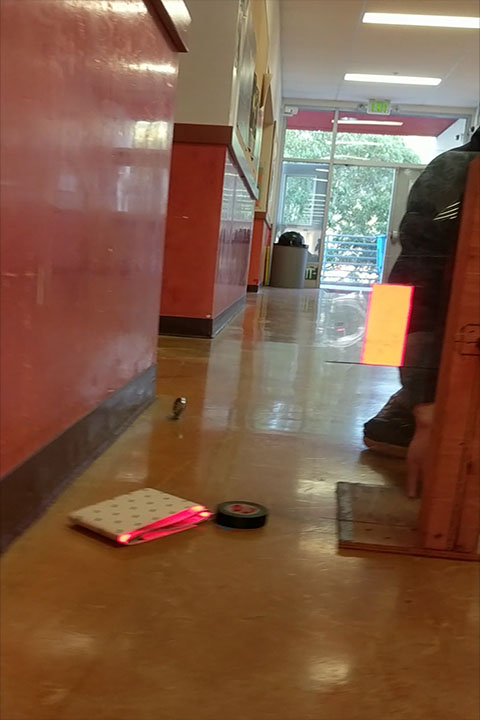gear: (361, 284, 412, 365)
